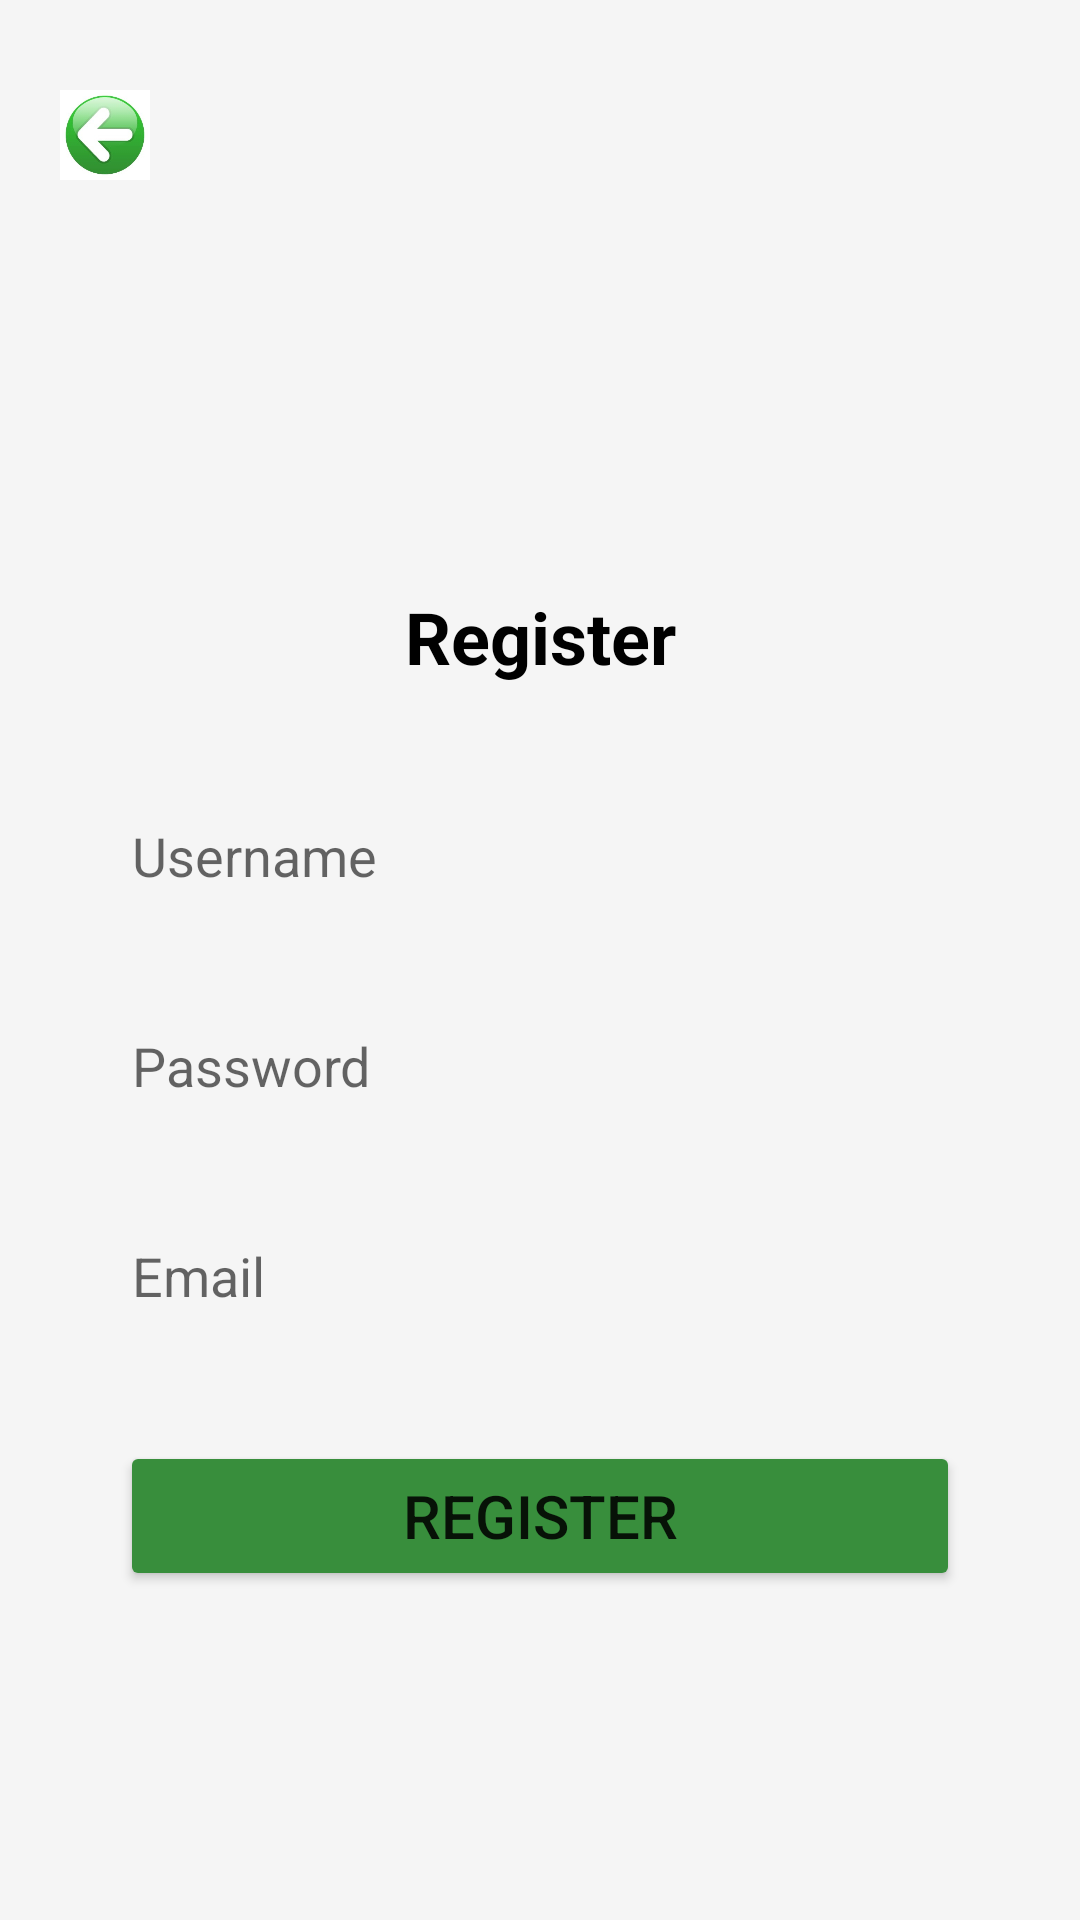

Named icons in this screenshot (1080 × 1920) and their centers, point (x, y):
arrow: point (105, 135)
